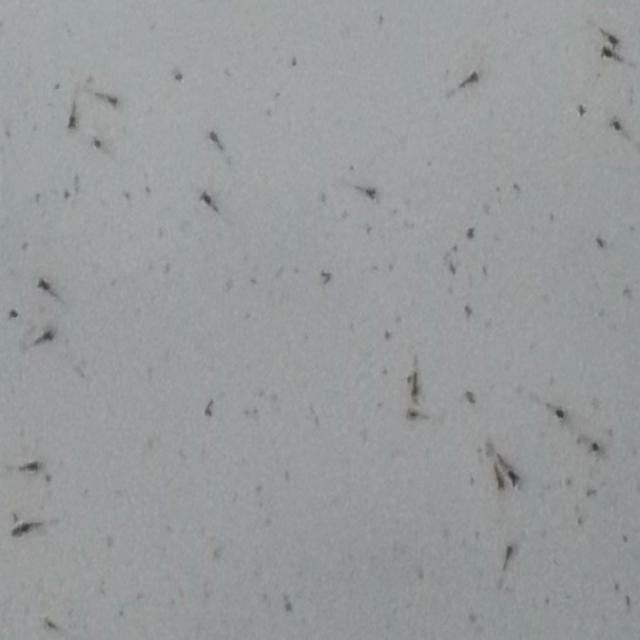shrimp-seed: (9, 513, 36, 542), (29, 326, 59, 350), (62, 104, 84, 136), (200, 186, 222, 217), (404, 370, 424, 400), (459, 64, 481, 90), (20, 456, 44, 478), (400, 403, 424, 425), (356, 181, 379, 203), (100, 90, 124, 111), (598, 43, 623, 62), (493, 472, 511, 496), (608, 114, 624, 140), (34, 274, 52, 296), (208, 129, 224, 152), (552, 404, 568, 426), (502, 540, 516, 564), (588, 436, 602, 459), (508, 467, 522, 490), (604, 32, 622, 48)
